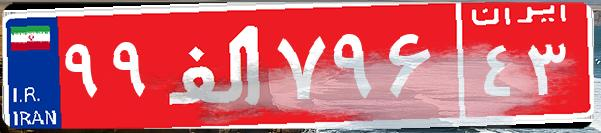3: (525, 38, 570, 115)
4: (475, 38, 525, 113)
6: (385, 28, 445, 110)
7: (273, 28, 330, 110)
9: (330, 28, 385, 110), (57, 26, 110, 107), (110, 28, 158, 105)
الف: (158, 15, 273, 115)
